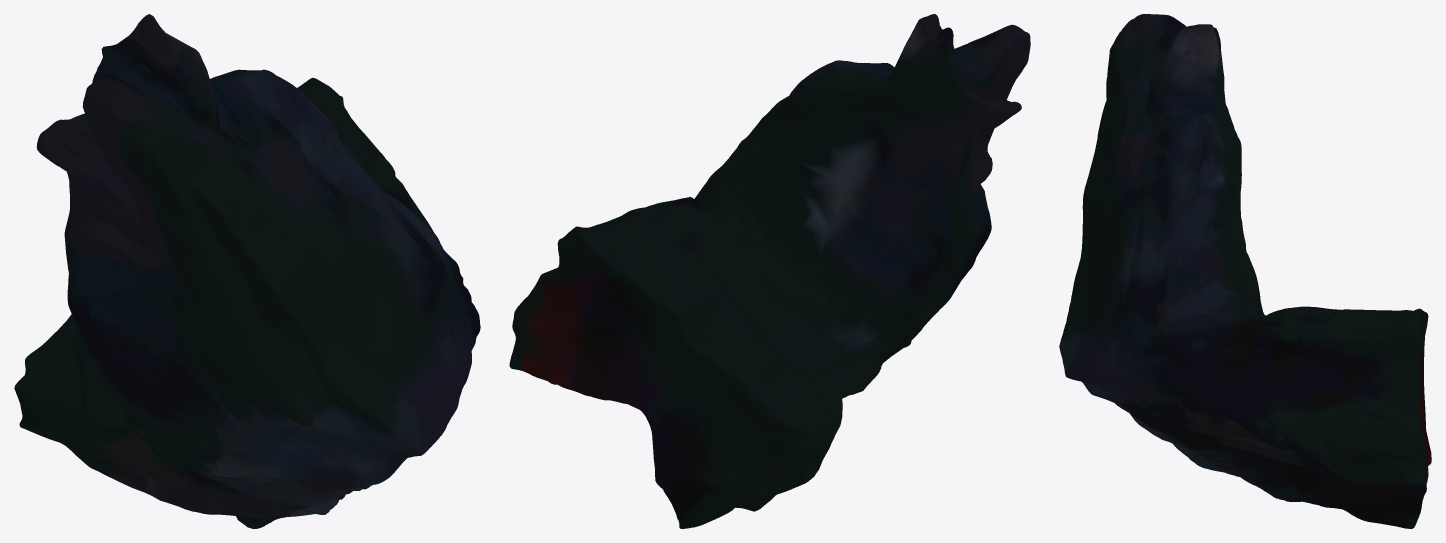
The model's file is component_028_hanging_garment.glb.
3 views of the same model, side by side, from view 1: azimuth 30°, elevation 25°; view 2: azimuth 150°, elevation 25°; view 3: azimuth 270°, elevation 25° (orthographic). The views are drawn at different scales.
Parts seen in each view (by area): view 1: 028_hanging_garment_000_instance_000_photo_-01; view 2: 028_hanging_garment_000_instance_000_photo_-01; view 3: 028_hanging_garment_000_instance_000_photo_-01.
Boxes of the visible parts, left/top/right/bottom form: 028_hanging_garment_000_instance_000_photo_-01: left=14, top=14, right=480, bottom=528; 028_hanging_garment_000_instance_000_photo_-01: left=509, top=14, right=1030, bottom=528; 028_hanging_garment_000_instance_000_photo_-01: left=1059, top=14, right=1431, bottom=528.
Bounding box in the file's own units: 0.1772 × 0.2002 × 0.1526.
